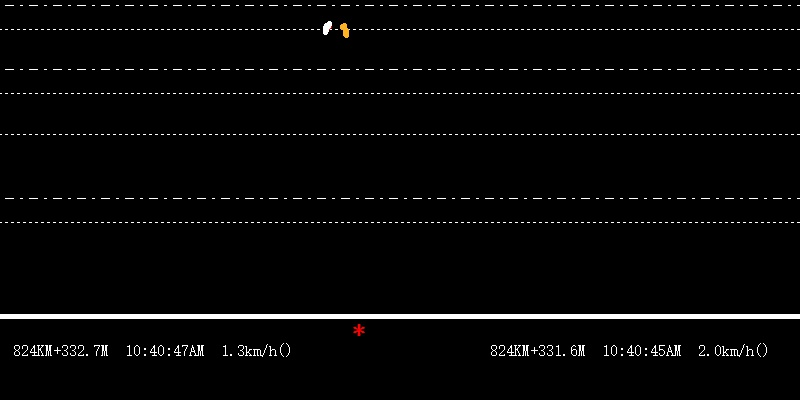face_1: (319, 16, 333, 37), (339, 21, 350, 41)
star: (350, 323, 366, 338)
